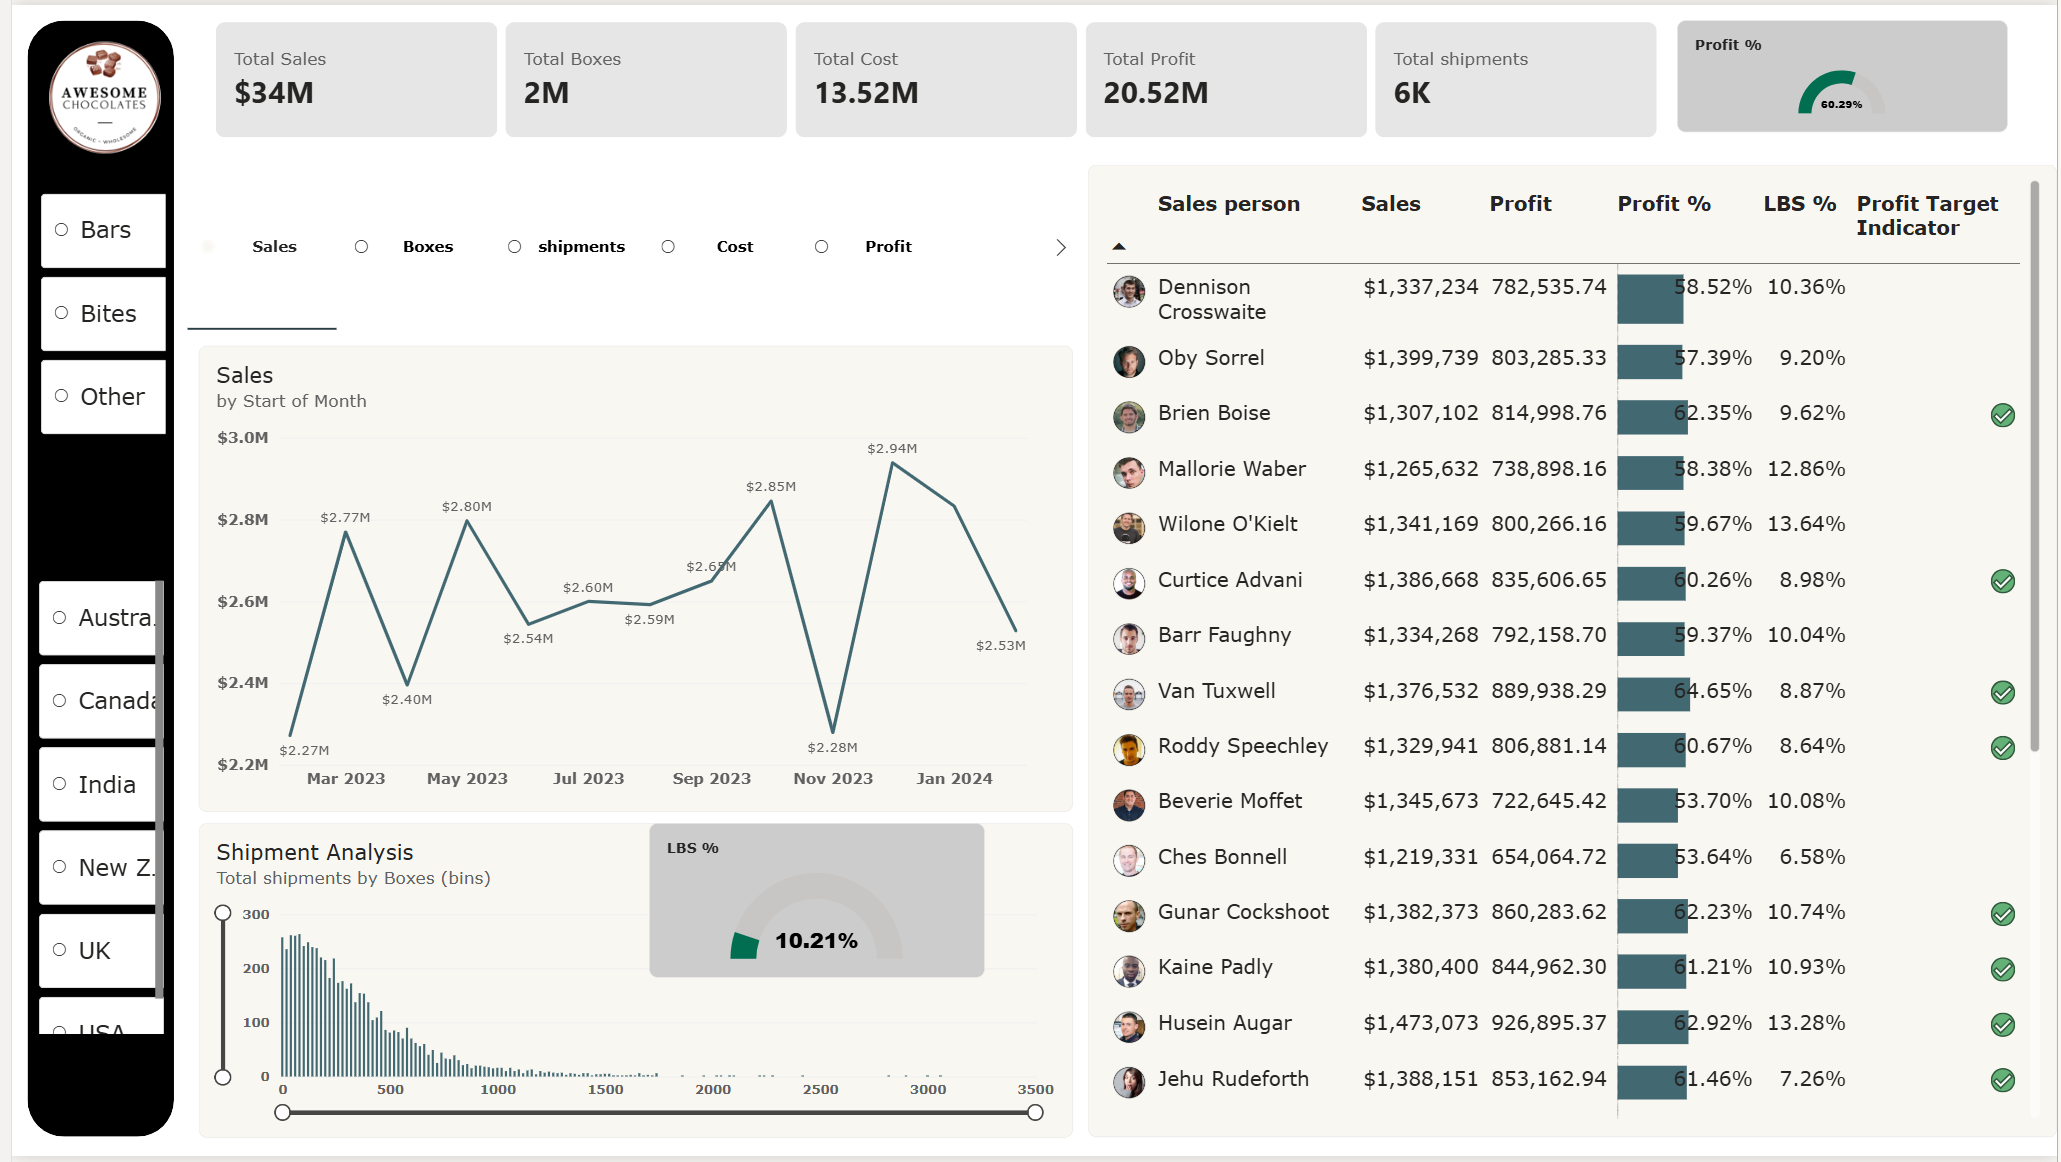

Layout of this report page (visuals, bound fields, positions):
{"tool":"powerbi","page":{"name":"Sales Report ","canvas":[1920,1080],"ordinal":2},"visuals":[{"type":"shape","box":[15,15,137.5,1047.5],"z":0},{"type":"cardVisual","fields":{"Data":["_measures.Total Sales","_measures.Total Boxes","_measures.Total Cost","_measures.Total Profit","_measures.Total shipments"]},"box":[175,0,1387.5,140],"z":1000},{"type":"gauge","fields":{"Y":["_measures.Profit %"]},"box":[1562.5,15,310,105],"z":2000},{"type":"image","box":[15,35,145,105],"z":3000},{"type":"lineChart","fields":{"Category":["calendar.Start of Month"],"Y":["_measures.Total Sales"]},"box":[175,320,820,437.5],"z":4000},{"type":"advancedSlicerVisual","fields":{"Values":["Measure Selector.Measure Selector"]},"box":[145,150,850,155],"z":5000},{"type":"columnChart","title":"Shipment Analysis","fields":{"Category":["shipments.Boxes (bins)"],"Y":["_measures.Total shipments"]},"box":[175,767.5,820,295],"z":6000},{"type":"gauge","fields":{"Y":["_measures.LBS %"]},"box":[597.5,767.5,315,145],"z":7000},{"type":"tableEx","fields":{"Values":["people.Picture","people.Sales person","_measures.Total Sales","_measures.Total Profit","_measures.Profit %","_measures.LBS %","_measures.Profit Target Indicator"]},"box":[1017.5,150,882.5,912.5],"z":8000},{"type":"advancedSlicerVisual","fields":{"Values":["products.Category"]},"box":[27.5,177.5,117.5,315],"z":9000},{"type":"advancedSlicerVisual","fields":{"Values":["locations.Geo"]},"box":[25,540,117.5,425],"z":10000}]}

Visuals, with their boxes in screenshot pixels (x1, y1, x2, y2), scaled from the page's 1920x1080 canvas onto the 2061x1162 screenshot:
shape: [x1=16, y1=16, x2=164, y2=1143]
cardVisual - _measures.Total Sales x _measures.Total Boxes: [x1=188, y1=0, x2=1677, y2=151]
gauge - _measures.Profit %: [x1=1677, y1=16, x2=2010, y2=129]
image: [x1=16, y1=38, x2=172, y2=151]
lineChart - calendar.Start of Month x _measures.Total Sales: [x1=188, y1=344, x2=1068, y2=815]
advancedSlicerVisual - Measure Selector.Measure Selector: [x1=156, y1=161, x2=1068, y2=328]
"Shipment Analysis" columnChart: [x1=188, y1=826, x2=1068, y2=1143]
gauge - _measures.LBS %: [x1=641, y1=826, x2=980, y2=982]
tableEx - people.Picture x people.Sales person: [x1=1092, y1=161, x2=2040, y2=1143]
advancedSlicerVisual - products.Category: [x1=30, y1=191, x2=156, y2=530]
advancedSlicerVisual - locations.Geo: [x1=27, y1=581, x2=153, y2=1038]
